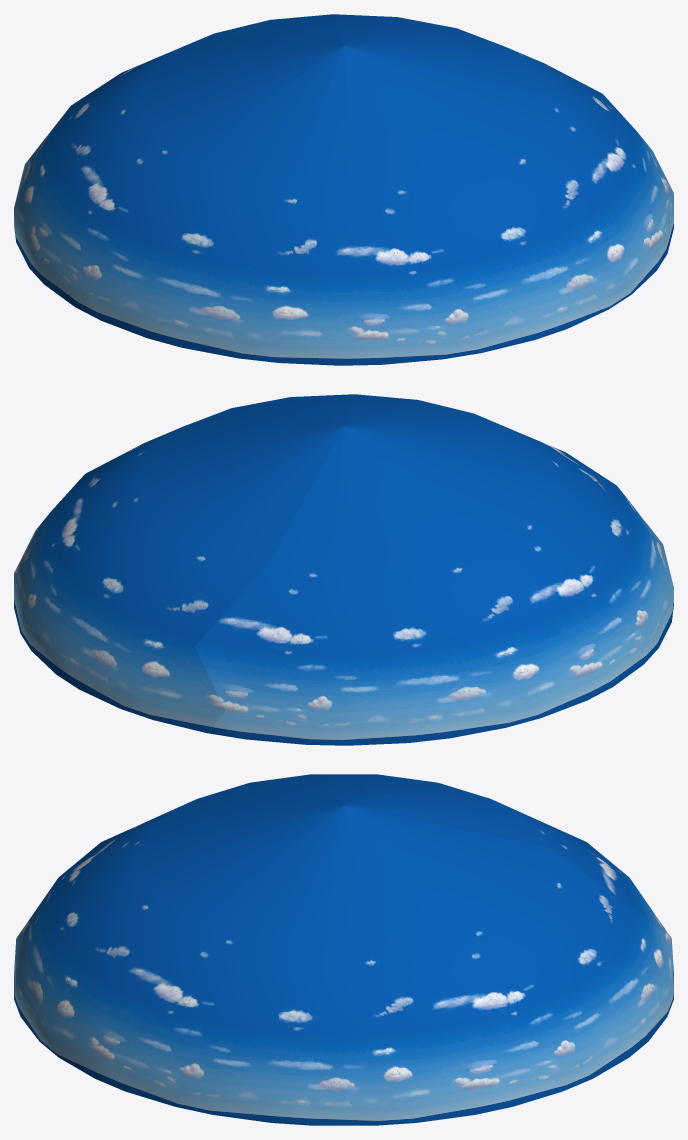
File: PeachBeachGood.obj
3 views of the same model, one above another, from view 1: azimuth 30°, elevation 25°; view 2: azimuth 150°, elevation 25°; view 3: azimuth 270°, elevation 25° (orthographic).
Parts seen in each view (by area): view 1: BeachSMGroup; view 2: BeachSMGroup; view 3: BeachSMGroup.
Boxes of the visible parts, x1,y1,x2,y2 form: BeachSMGroup: (14,14,673,365); BeachSMGroup: (14,394,673,745); BeachSMGroup: (14,774,673,1125).
Bounding box in the file's own units: 5216 × 1594 × 5216.
